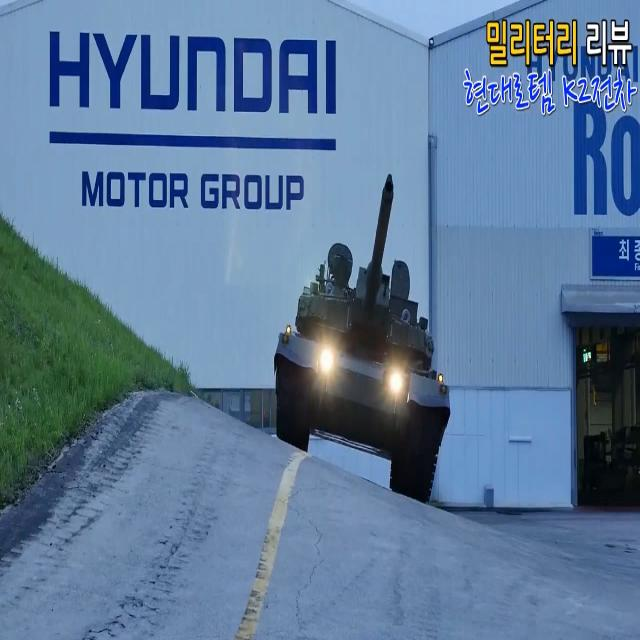korea tank: (272, 172, 452, 506)
